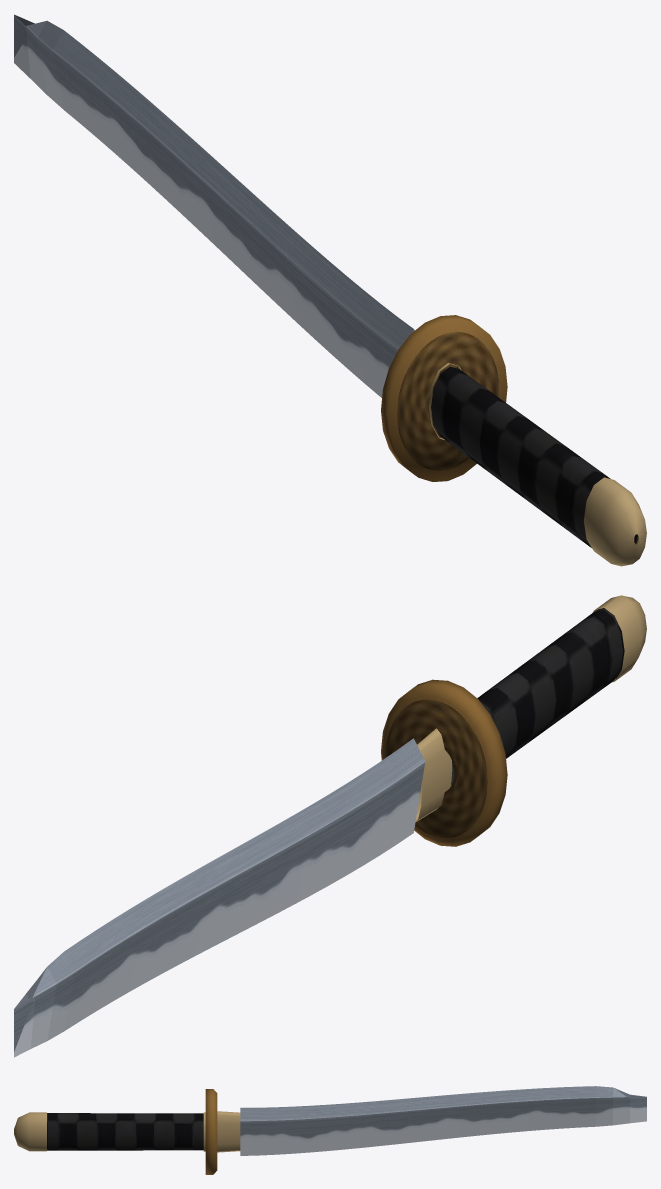
Rendered from twin_wakizashi.glb.
The picture shows the model from 3 angles, top to bottom: view 1: azimuth 30°, elevation 25°; view 2: azimuth 150°, elevation 25°; view 3: azimuth 270°, elevation 25°; orthographic projection. The views are drawn at different scales.
Visible parts, largest first — view 1: main; view 2: main; view 3: main.
Boxes of the visible parts, left/top/right/bottom form: main: left=14, top=14, right=646, bottom=566; main: left=14, top=595, right=646, bottom=1057; main: left=14, top=1086, right=646, bottom=1174.
Bounding box in the file's own units: 0.0722 × 0.0984 × 0.654.
4 materials, 3 textured.
